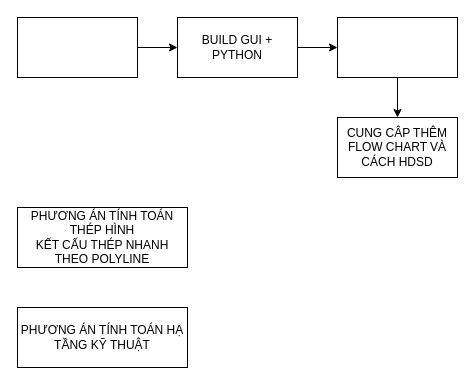
Image size: 475x385. Some labels were removed from this diagram. The centre of each missing label's shape, as x and y in pixels:
"CHẠY THỬ DỰ ÁN" belongs at pixel 397 47.
"MODULES 1 Tính KL HT + Python Phân tách thành BOQ Cho Tường" belongs at pixel 77 47.
